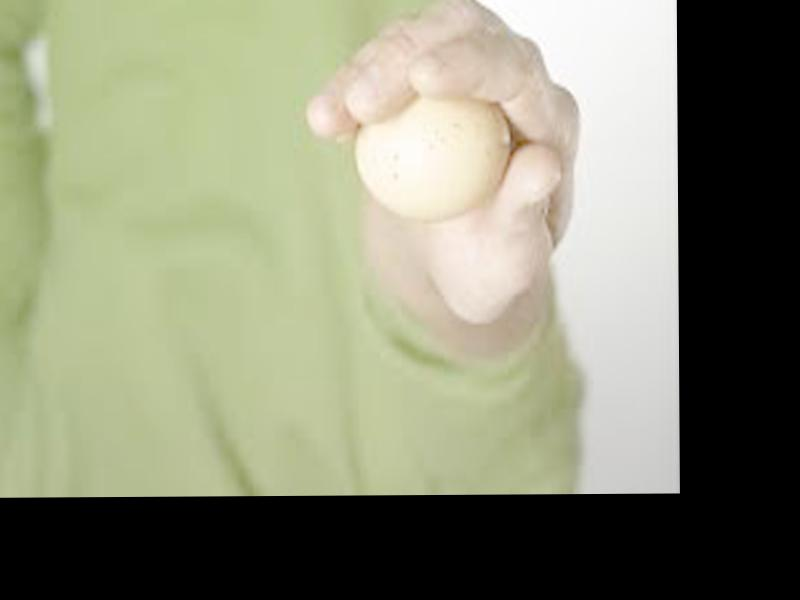Eggs: (354, 94, 509, 220)
